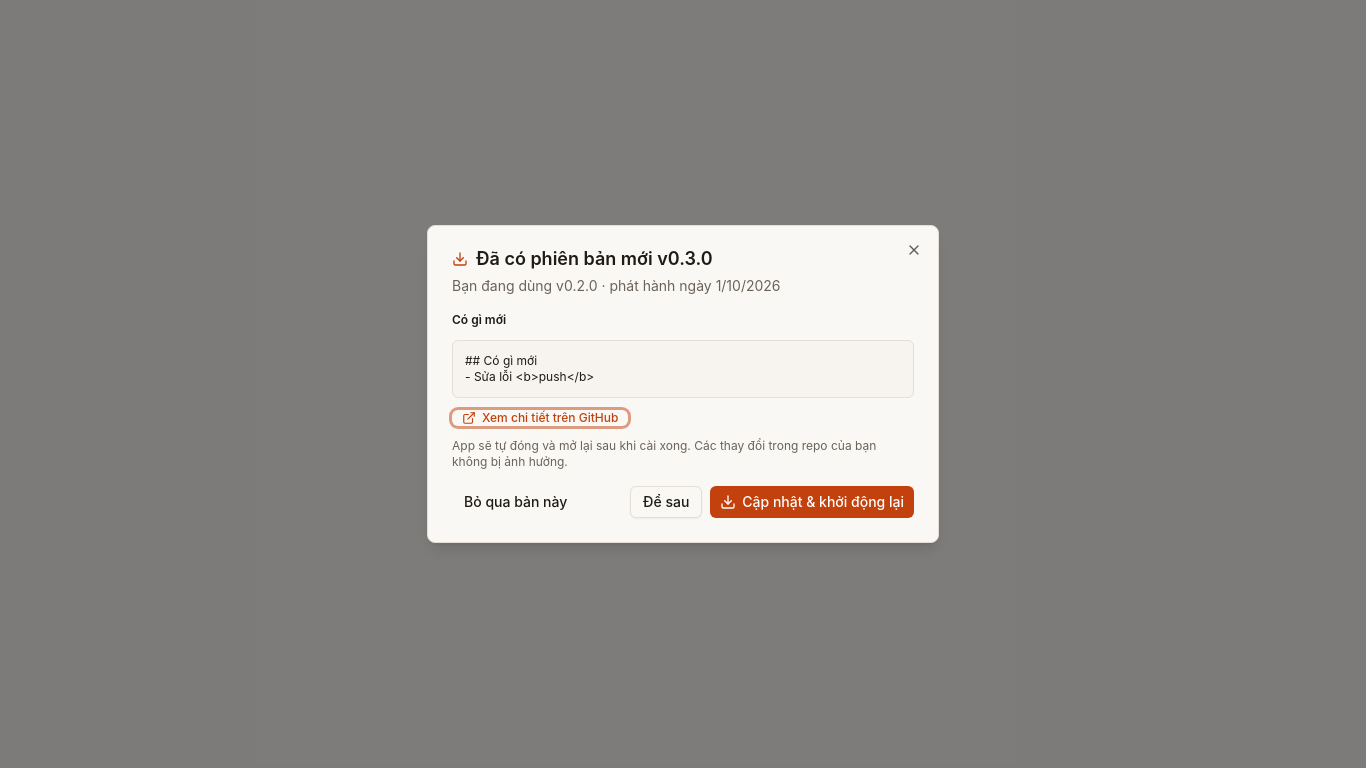
Scenario: update dialog › explains a failed install and offers a retry
Click the button "Cập nhật & khởi động lại" at (812, 502), box 710,486 -> 914,518
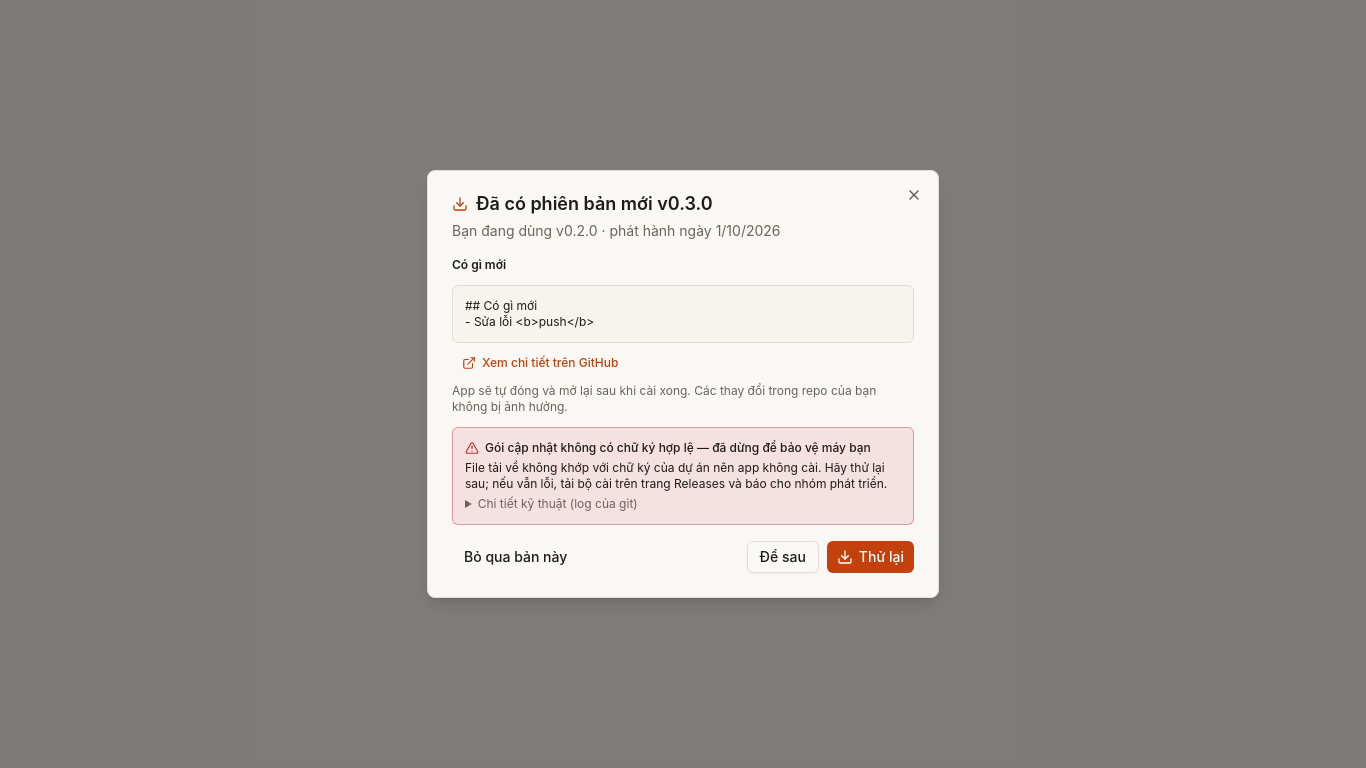
Expected: the button "Thử lại" is enabled, 827,541 -> 914,573
Result: the message shows "Gói cập nhật không có chữ ký hợp lệ" at 485,440 -> 871,455
Result: the message shows "tải bộ cài trên trang Releases" at 465,460 -> 887,491
